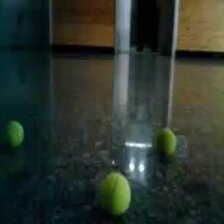tennis: (96, 171, 131, 215), (1, 119, 25, 149), (155, 128, 176, 156)
